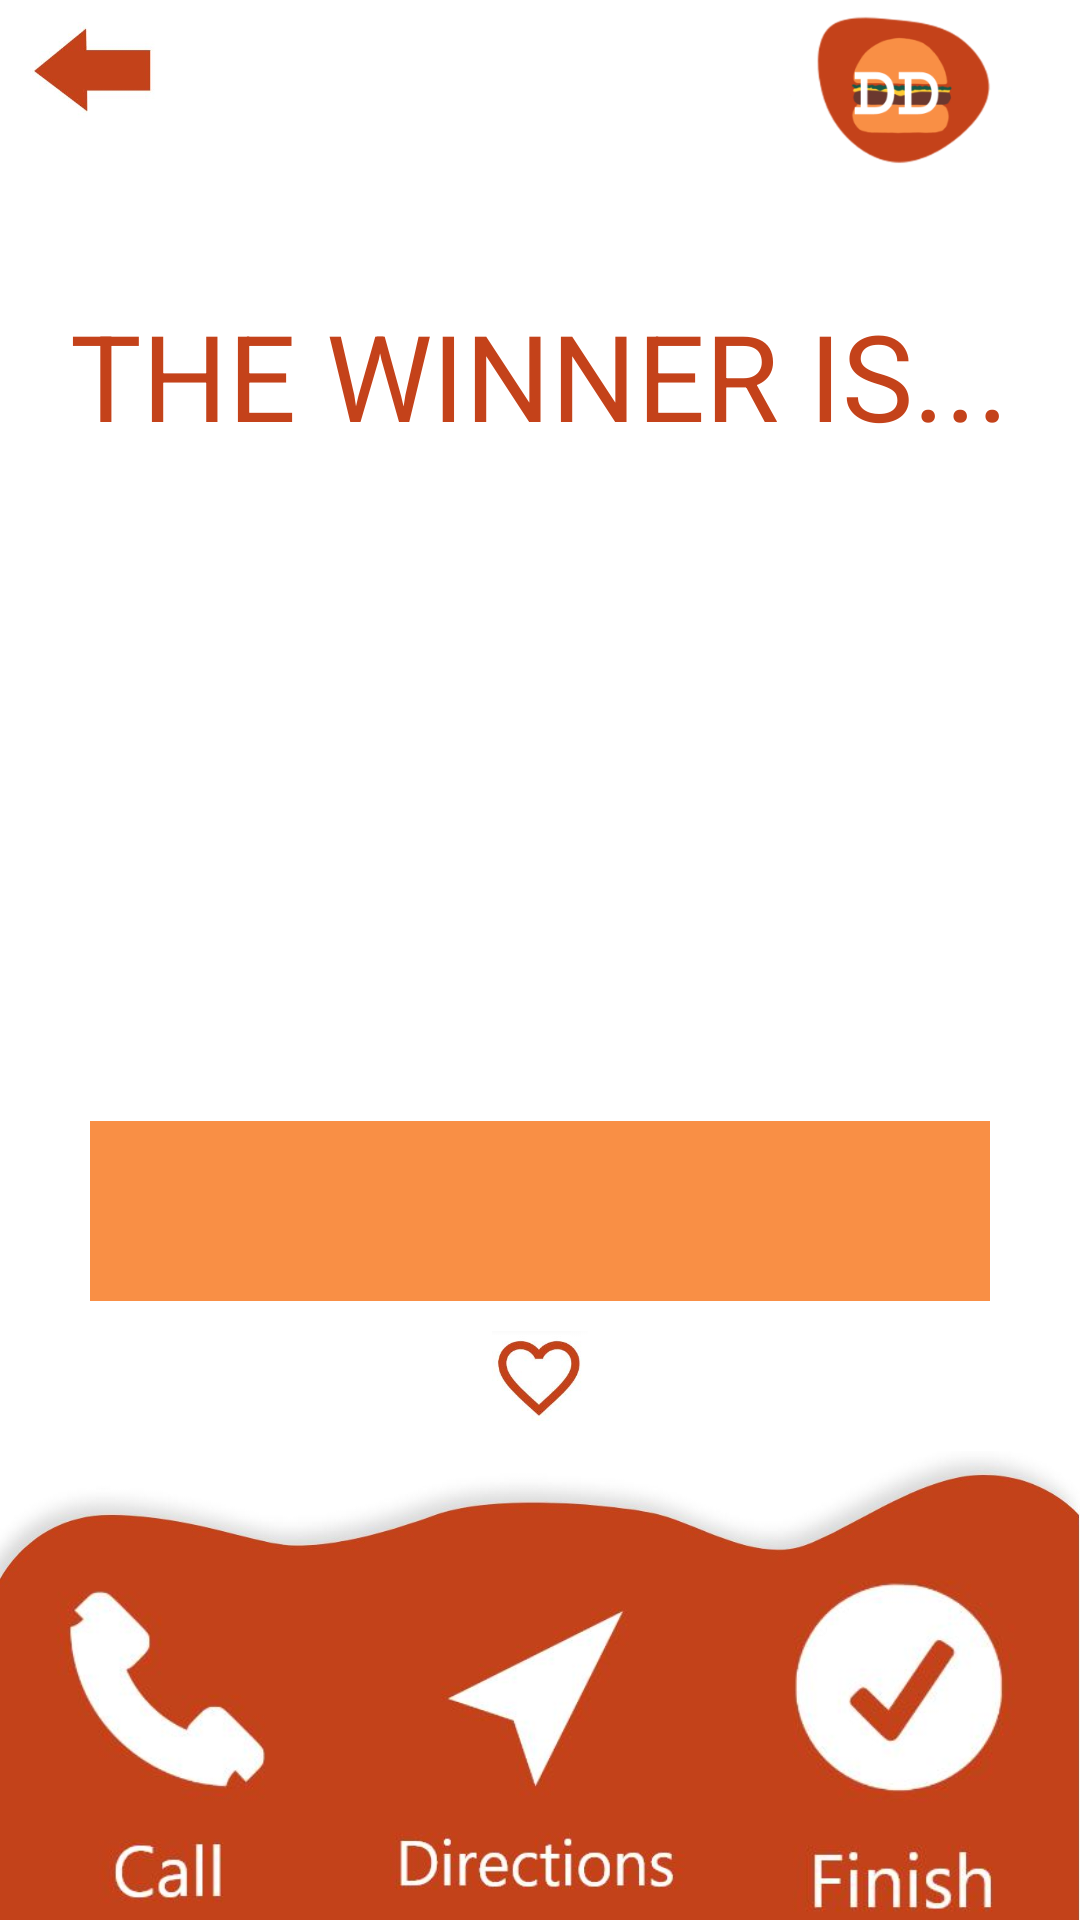

Where to tap for icons on this 1080×1920 app screen, as [x,y]:
arrow: [92,70]
heart: [539,1378]
